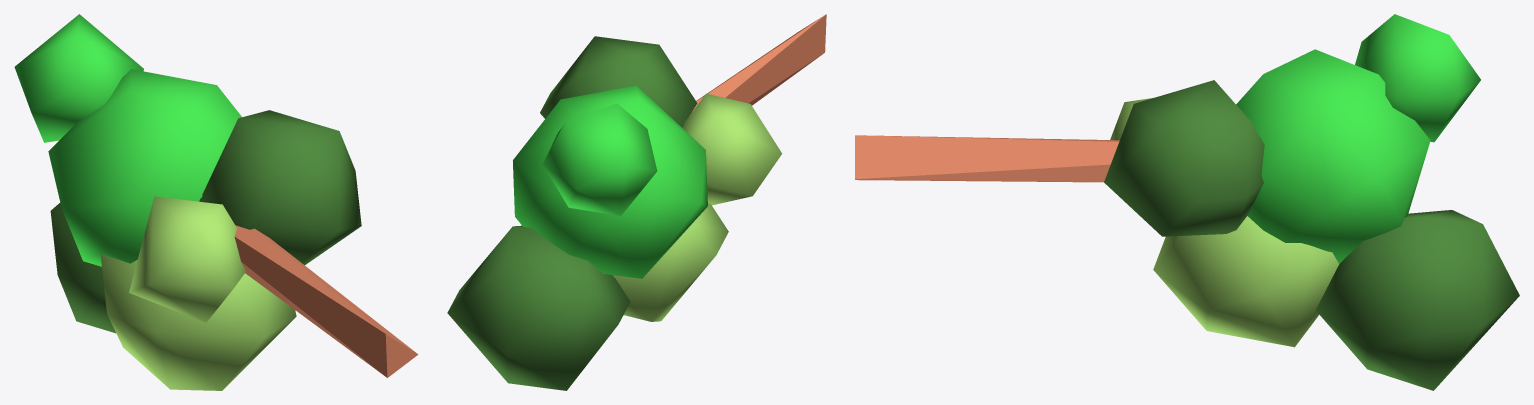
File: tree2.fbx
3 views of the same model, side by side, from view 1: azimuth 30°, elevation 25°; view 2: azimuth 150°, elevation 25°; view 3: azimuth 270°, elevation 25° (orthographic). The views are drawn at different scales.
Parts seen in each view (by area): view 1: Icosphere.006; view 2: Icosphere.006; view 3: Icosphere.006.
Boxes of the visible parts, bbox=[...] form: Icosphere.006: bbox=[14, 14, 418, 390]; Icosphere.006: bbox=[447, 14, 826, 390]; Icosphere.006: bbox=[855, 14, 1519, 390].
Size of the model in its own units: 550 by 1365 by 739.
